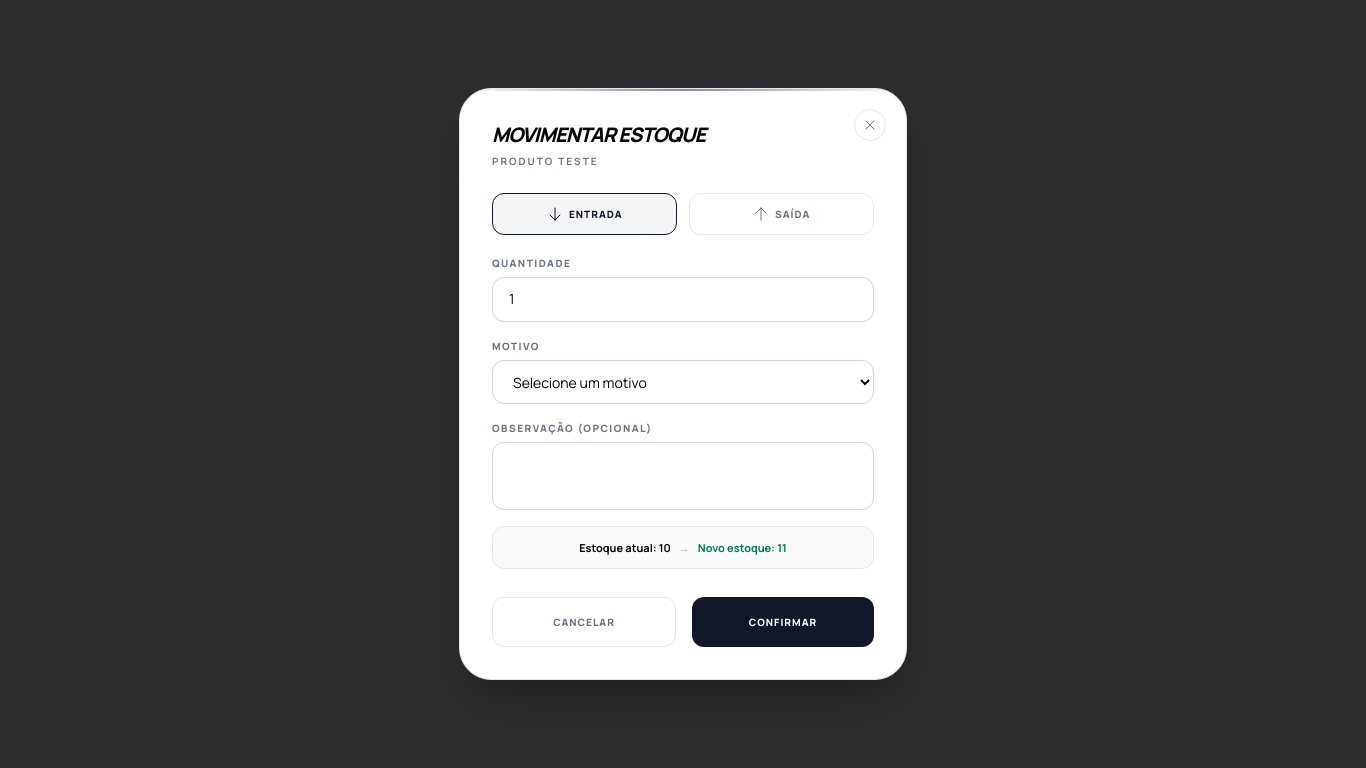
Test: StockMovementModal › blocks saida that would drive projected stock negative
Click the button with test id "btn-movement-type-saida". click: {"x": 782, "y": 214}
box: [689,193,874,235]
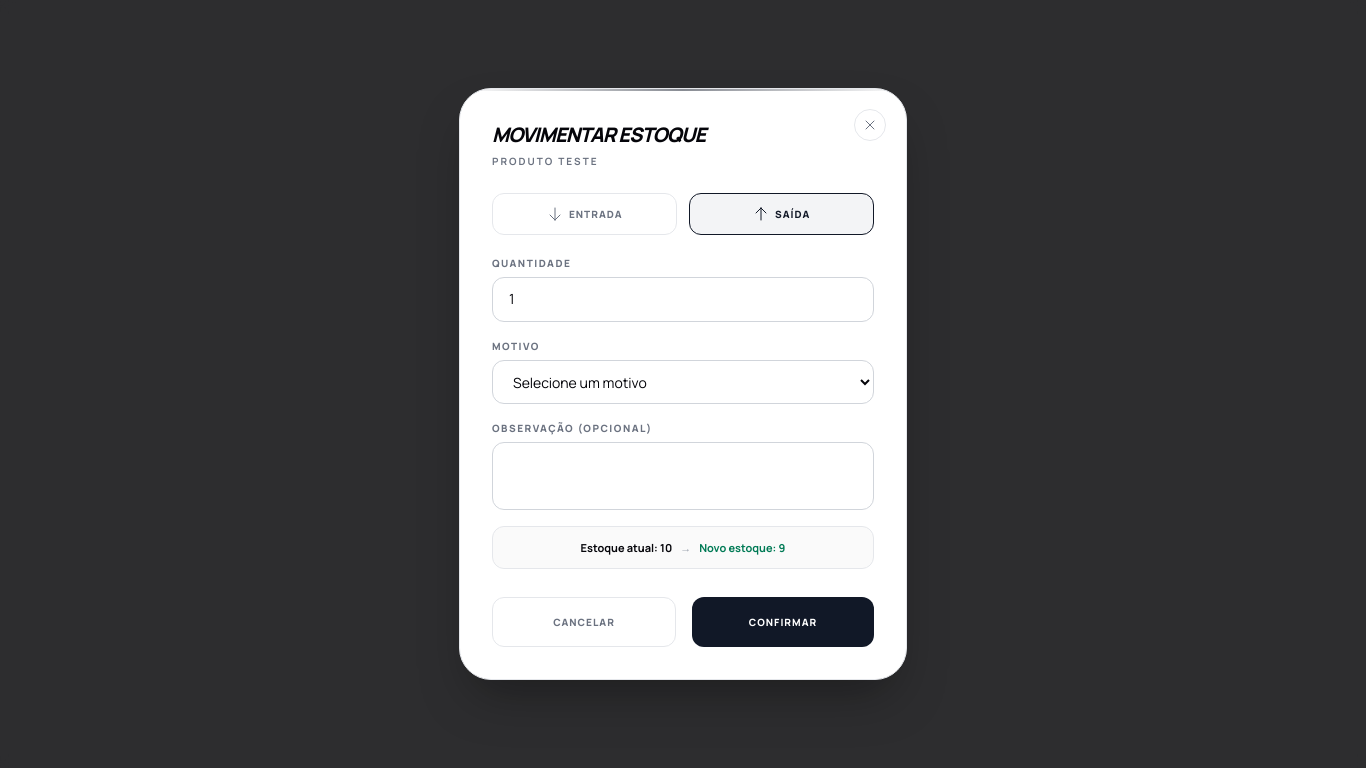
Replace the text in the number field with test id "input-movement-quantity" with "999". click: {"x": 683, "y": 299}
box: [492,277,874,322]
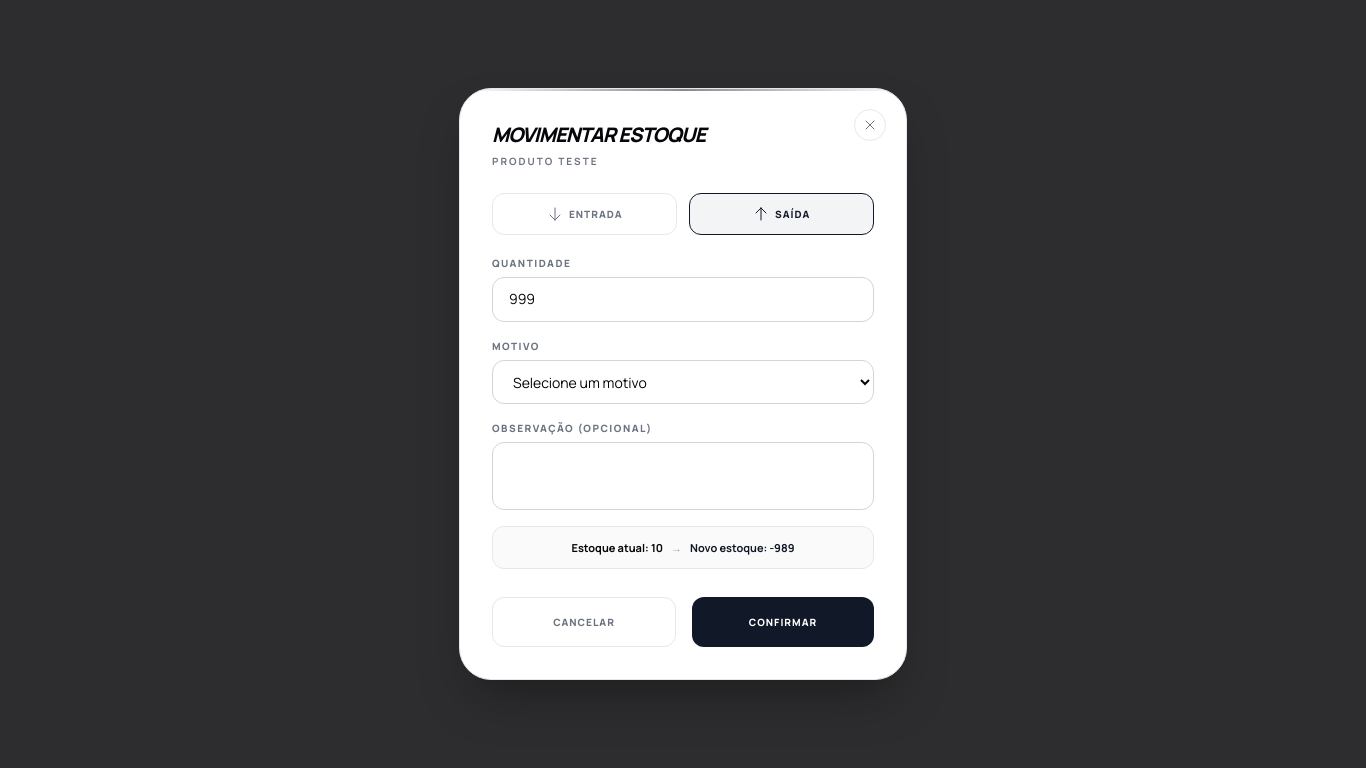
Select "Perda/Avaria" in the dropdown with test id "select-movement-reason". click: {"x": 683, "y": 382}
box: [492,360,874,404]
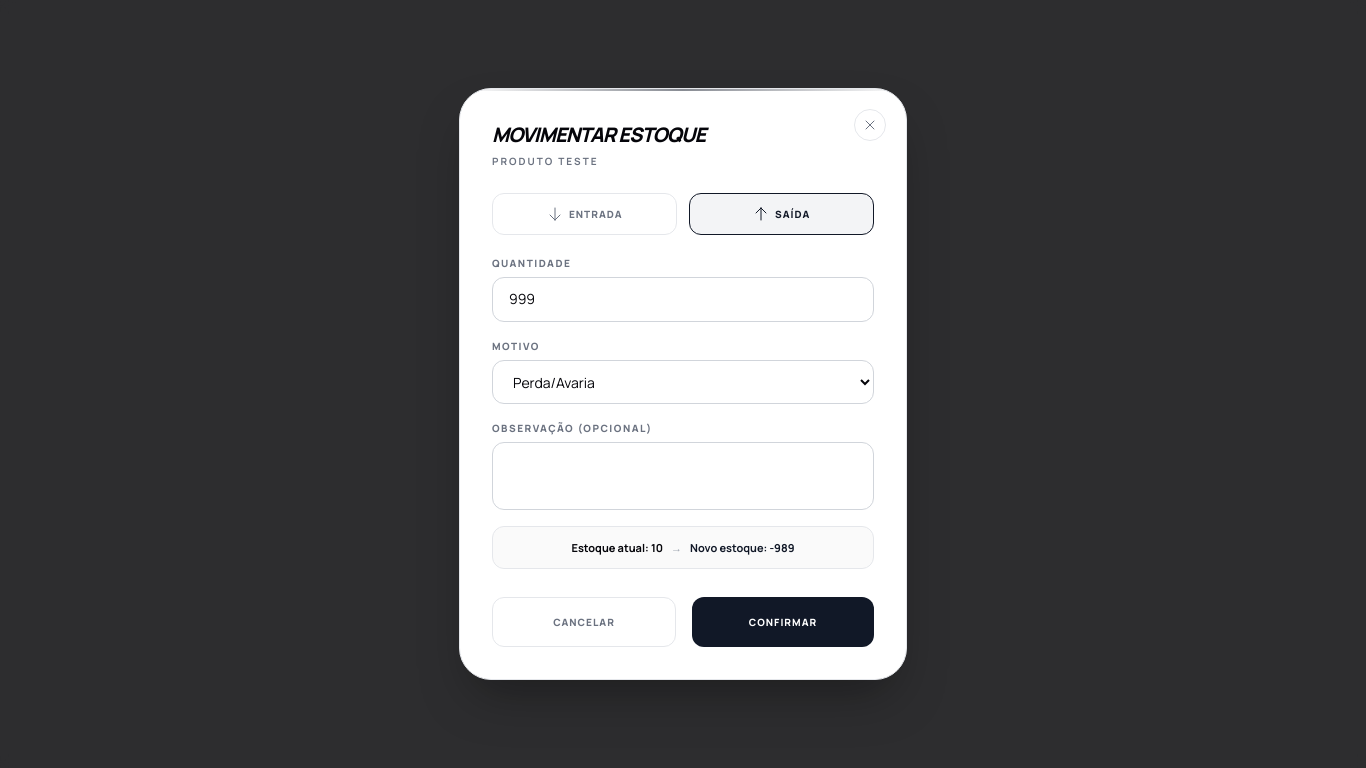
Click the button with test id "btn-confirm-movement". click: {"x": 783, "y": 622}
box: [692,597,874,647]
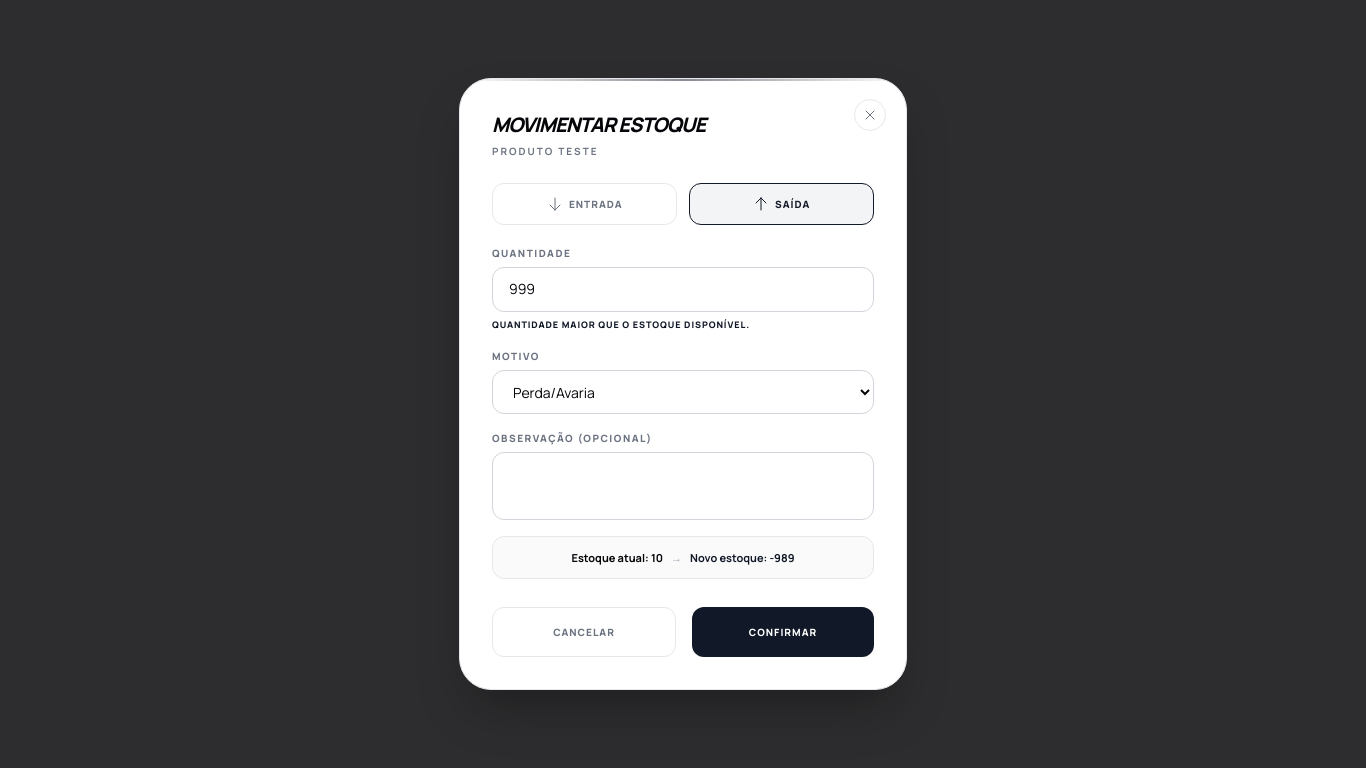
expect the text "Quantidade maior que o estoque disponível." is shown: met, box [492,318,750,331]
